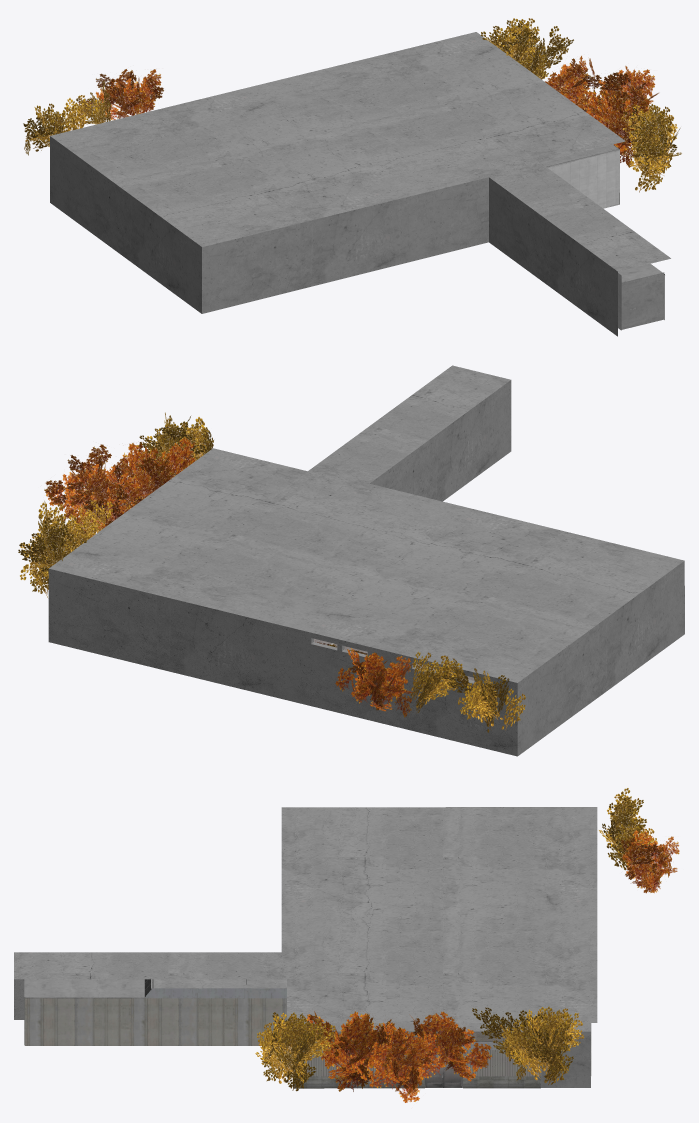
Rendered from DM arena 10.glb.
The picture shows the model from 3 angles, top to bottom: view 1: azimuth 30°, elevation 25°; view 2: azimuth 150°, elevation 25°; view 3: azimuth 270°, elevation 25°; orthographic projection. The views are drawn at different scales.
Visible parts, largest first — view 1: Polygon.001_1; view 2: Polygon.001_1; view 3: Polygon.001_1.
Boxes of the visible parts, box(x1,y1,x2,y2) form: Polygon.001_1: box(23, 18, 681, 336); Polygon.001_1: box(18, 365, 684, 756); Polygon.001_1: box(14, 788, 679, 1102).
Size of the model in its own units: 213 by 35.72 by 223.
11 materials, 11 textured.
